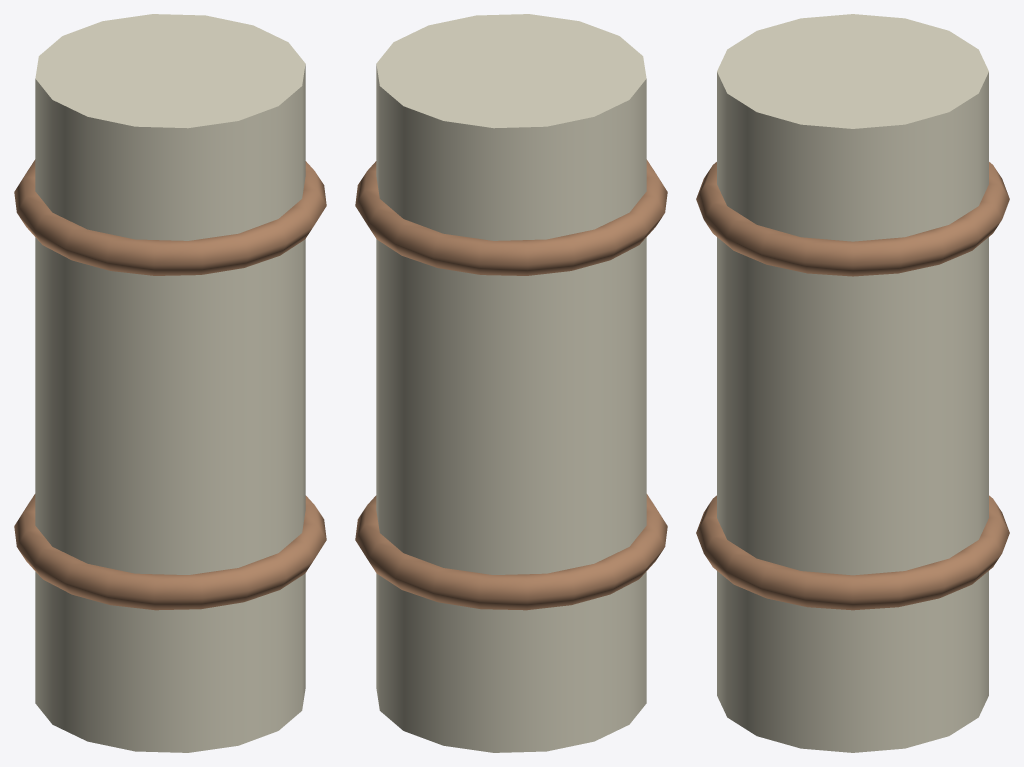
The model's file is backpacks-and-expedition-storage-blanket-roll-0aa968b8__21095.glb.
3 renders of one model, left to right at view 1: azimuth 30°, elevation 25°; view 2: azimuth 150°, elevation 25°; view 3: azimuth 270°, elevation 25°, orthographic.
Parts seen in each view (by area): view 1: blanket-roll; view 2: blanket-roll; view 3: blanket-roll.
Part boxes in pixels (x1,y1,x2,y2): blanket-roll: (14, 14, 326, 752); blanket-roll: (355, 14, 667, 752); blanket-roll: (696, 14, 1009, 752).
Bounding box in the file's own units: 0.196 × 0.43 × 0.196.
